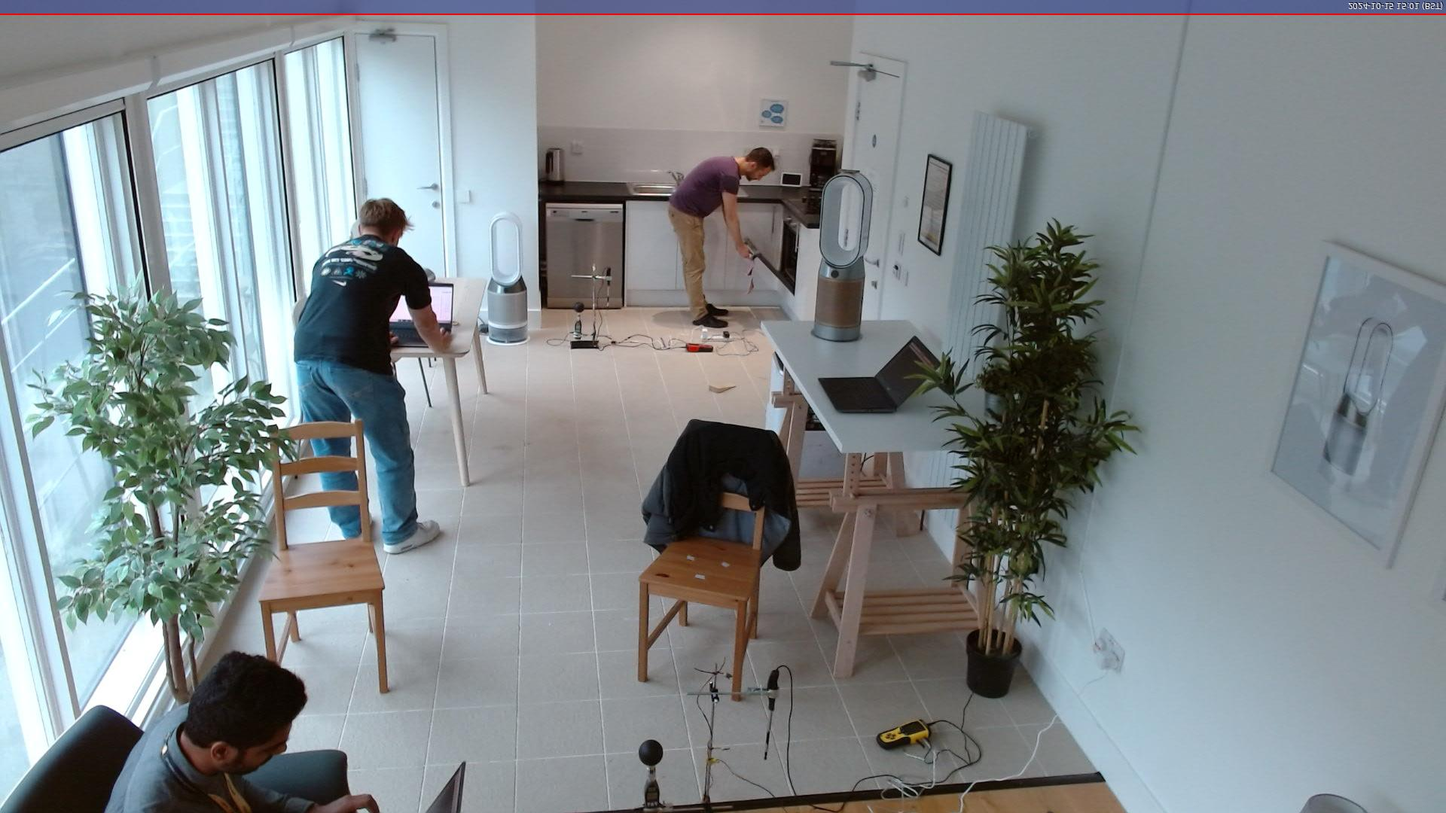long sleeve shirt: (101, 698, 314, 813)
short sleeve shirt: (290, 232, 434, 373), (667, 152, 742, 222)
trousers: (296, 356, 418, 545), (667, 203, 708, 321)
